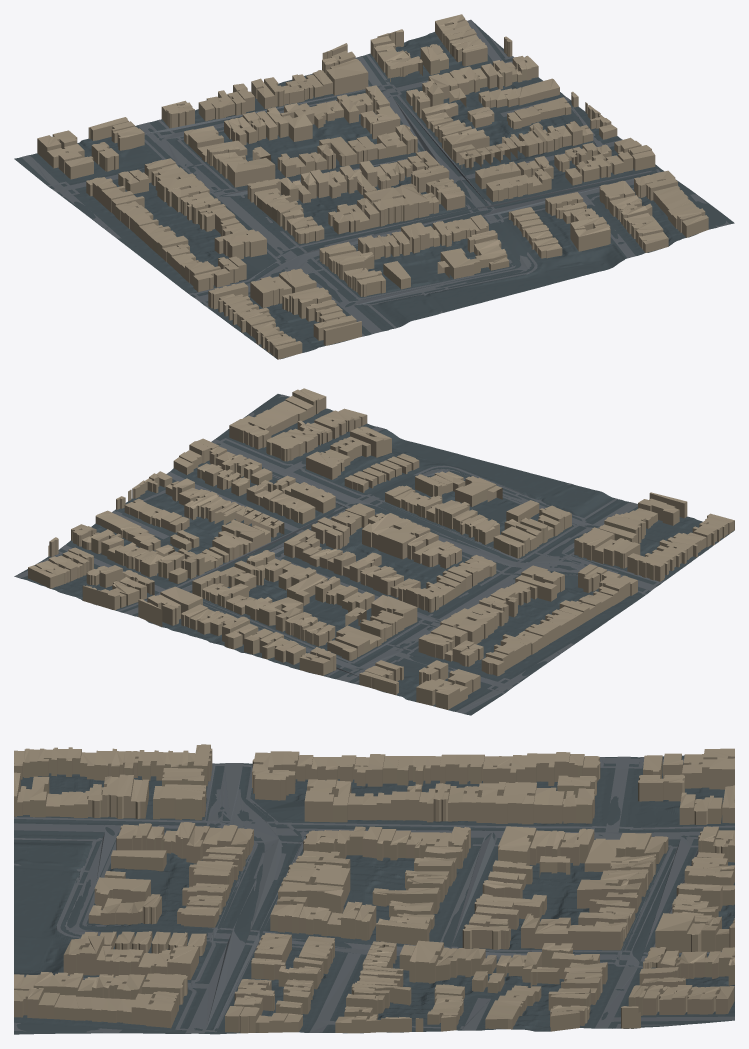
The model's file is epsg26910-1426-10888.lod0.glb.
3 views of the same model, one above another, from view 1: azimuth 30°, elevation 25°; view 2: azimuth 150°, elevation 25°; view 3: azimuth 270°, elevation 25° (orthographic). The views are drawn at different scales.
Visible parts, largest first — view 1: epsg26910-1426-10888-lod0; view 2: epsg26910-1426-10888-lod0; view 3: epsg26910-1426-10888-lod0.
Part boxes in pixels (<box>): epsg26910-1426-10888-lod0: <box>14,14,734,359</box>; epsg26910-1426-10888-lod0: <box>14,388,734,715</box>; epsg26910-1426-10888-lod0: <box>14,744,734,1034</box>.
Size of the model in its own units: 384 by 36.78 by 384.
